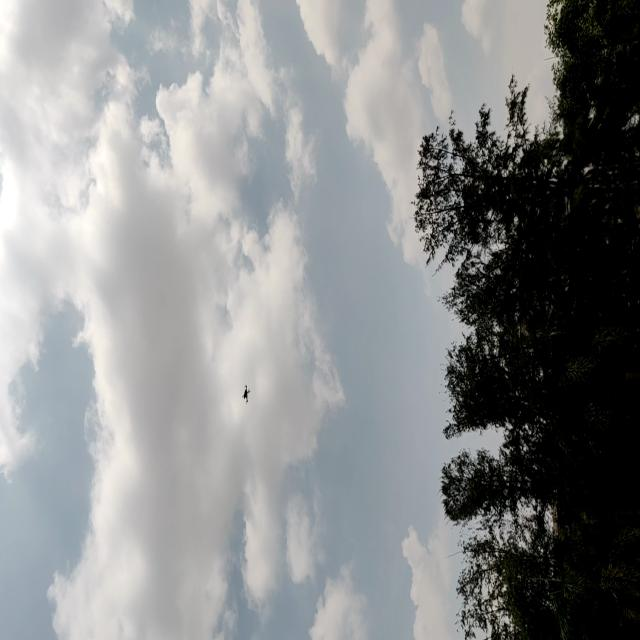drone: (238, 381, 254, 403)
